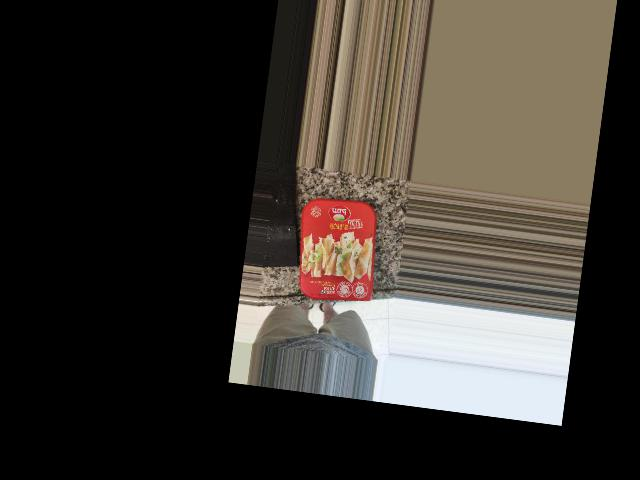cheese: (274, 204, 372, 325)
